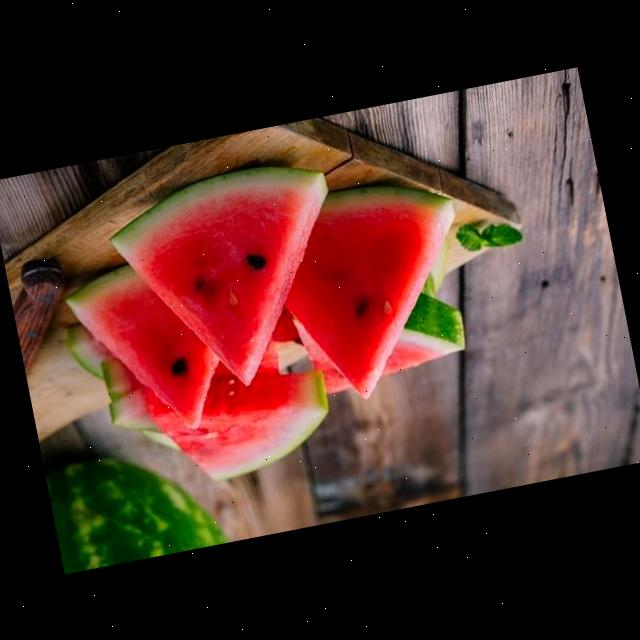watermelon: (100, 152, 362, 405), (259, 166, 484, 412), (60, 250, 234, 448), (41, 424, 229, 574), (143, 363, 340, 495), (288, 278, 473, 402)
